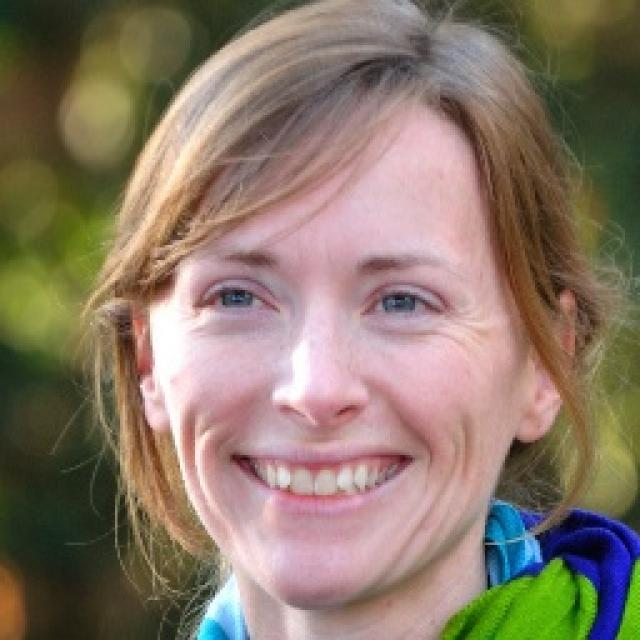earlobe: (512, 288, 578, 446), (128, 282, 174, 437)
